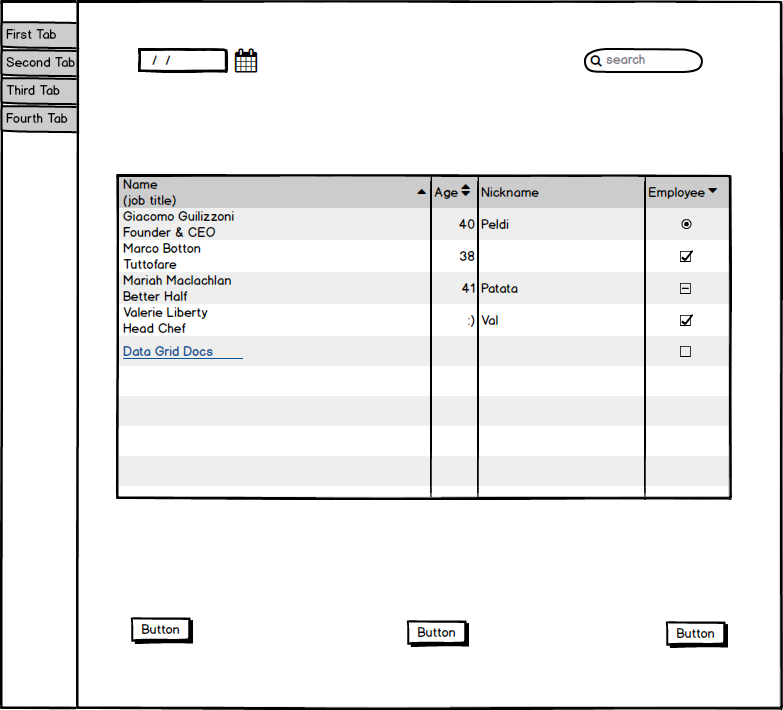button: (401, 616, 477, 653), (661, 616, 731, 655), (125, 613, 202, 648)
date_picker: (132, 40, 268, 80)
search: (577, 45, 711, 80)
sidebar: (1, 13, 87, 140)
table: (111, 168, 740, 507)
